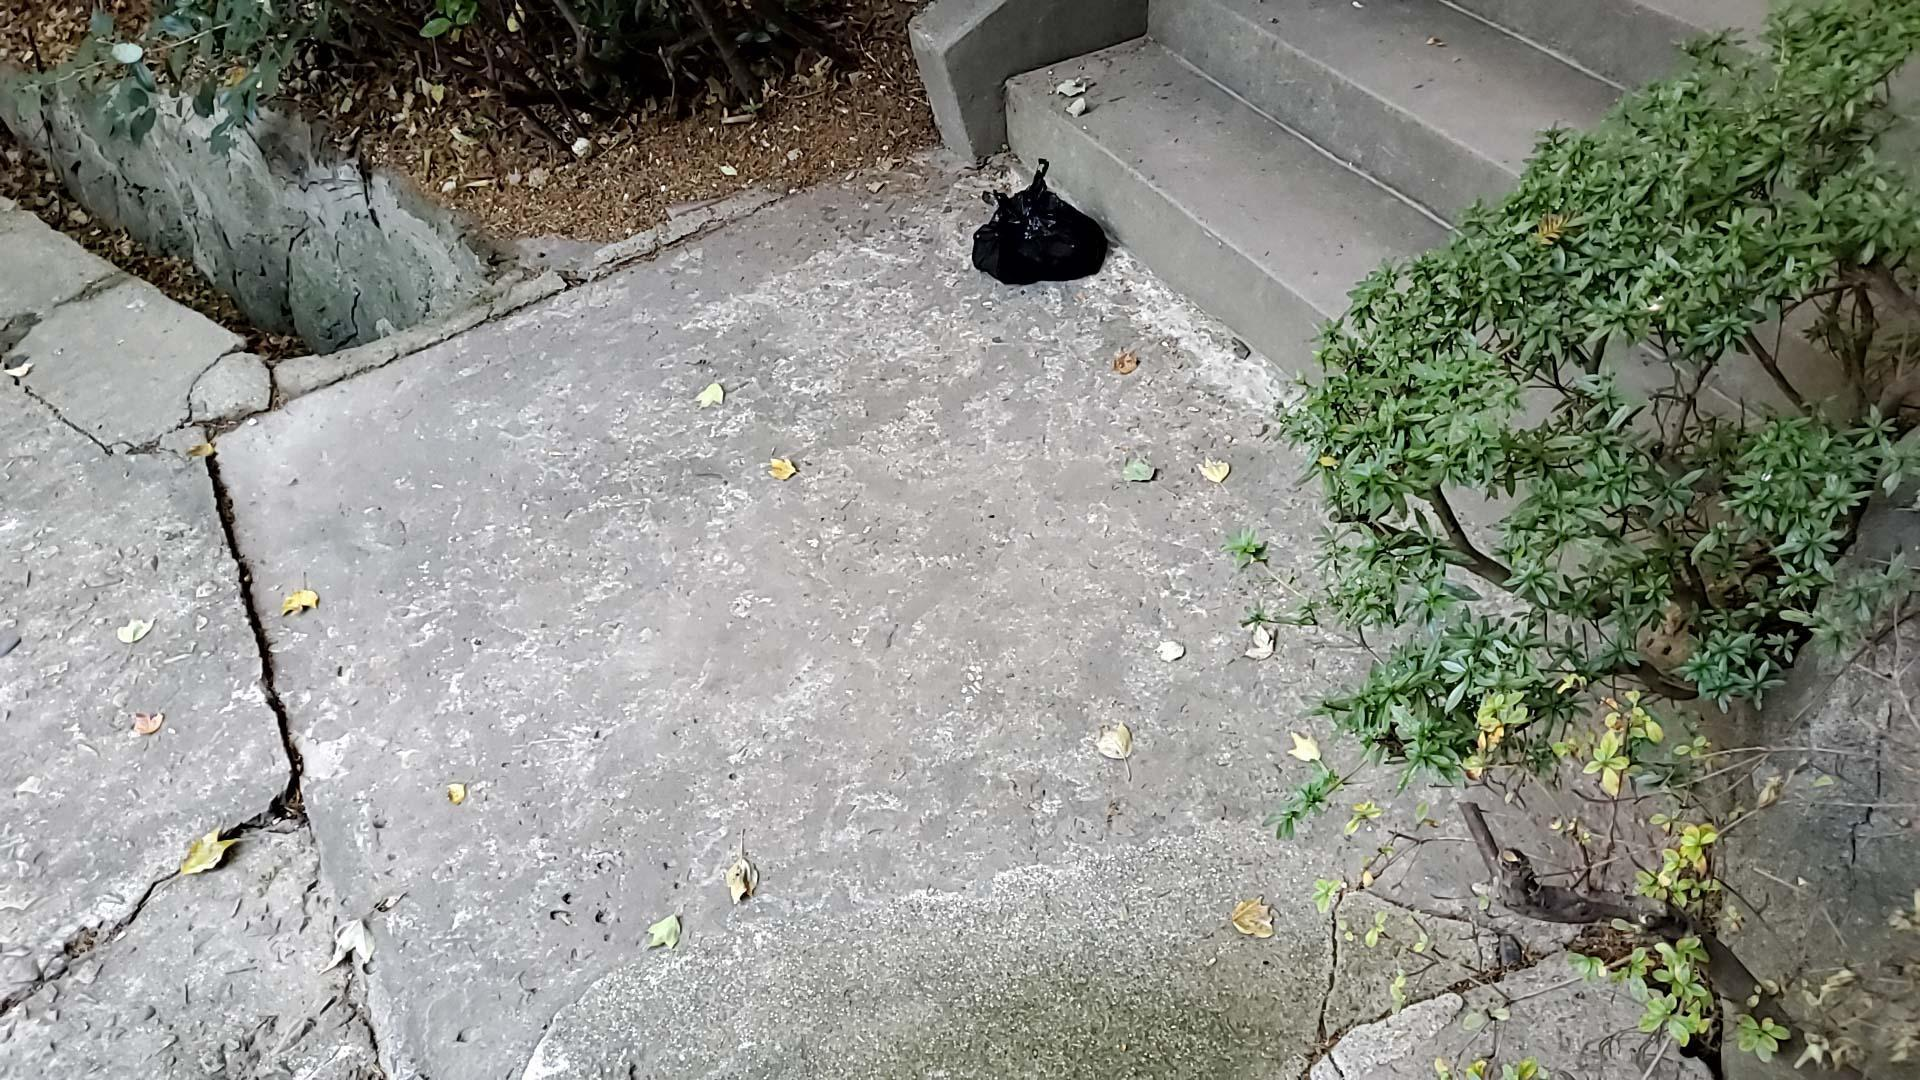black_bag: (956, 152, 1116, 287)
